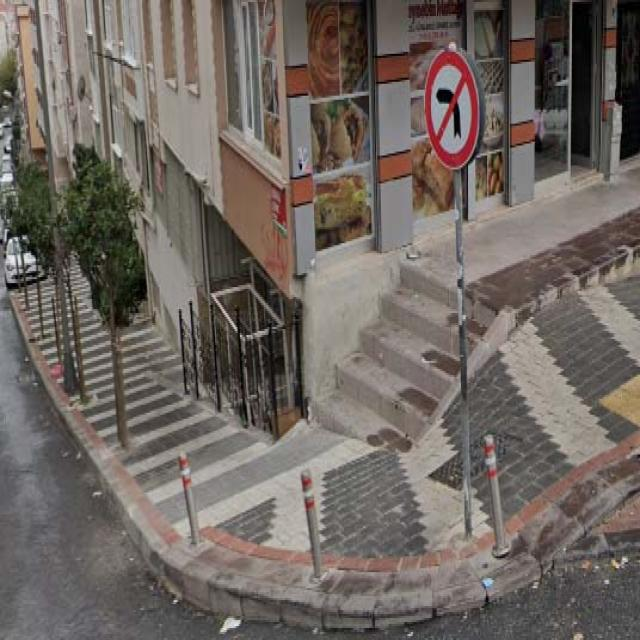soladonulmez: (422, 50, 478, 171)
